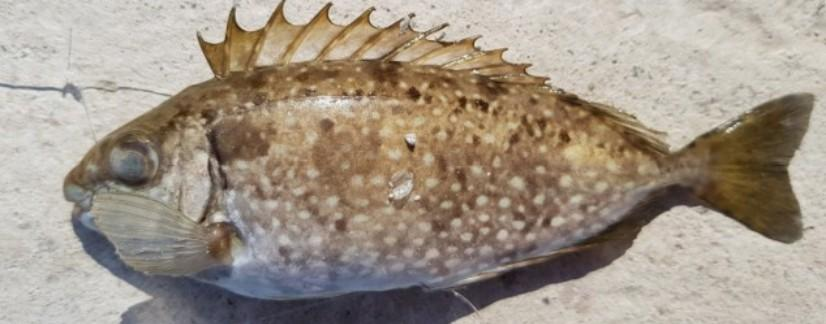fish: (64, 0, 813, 322)
